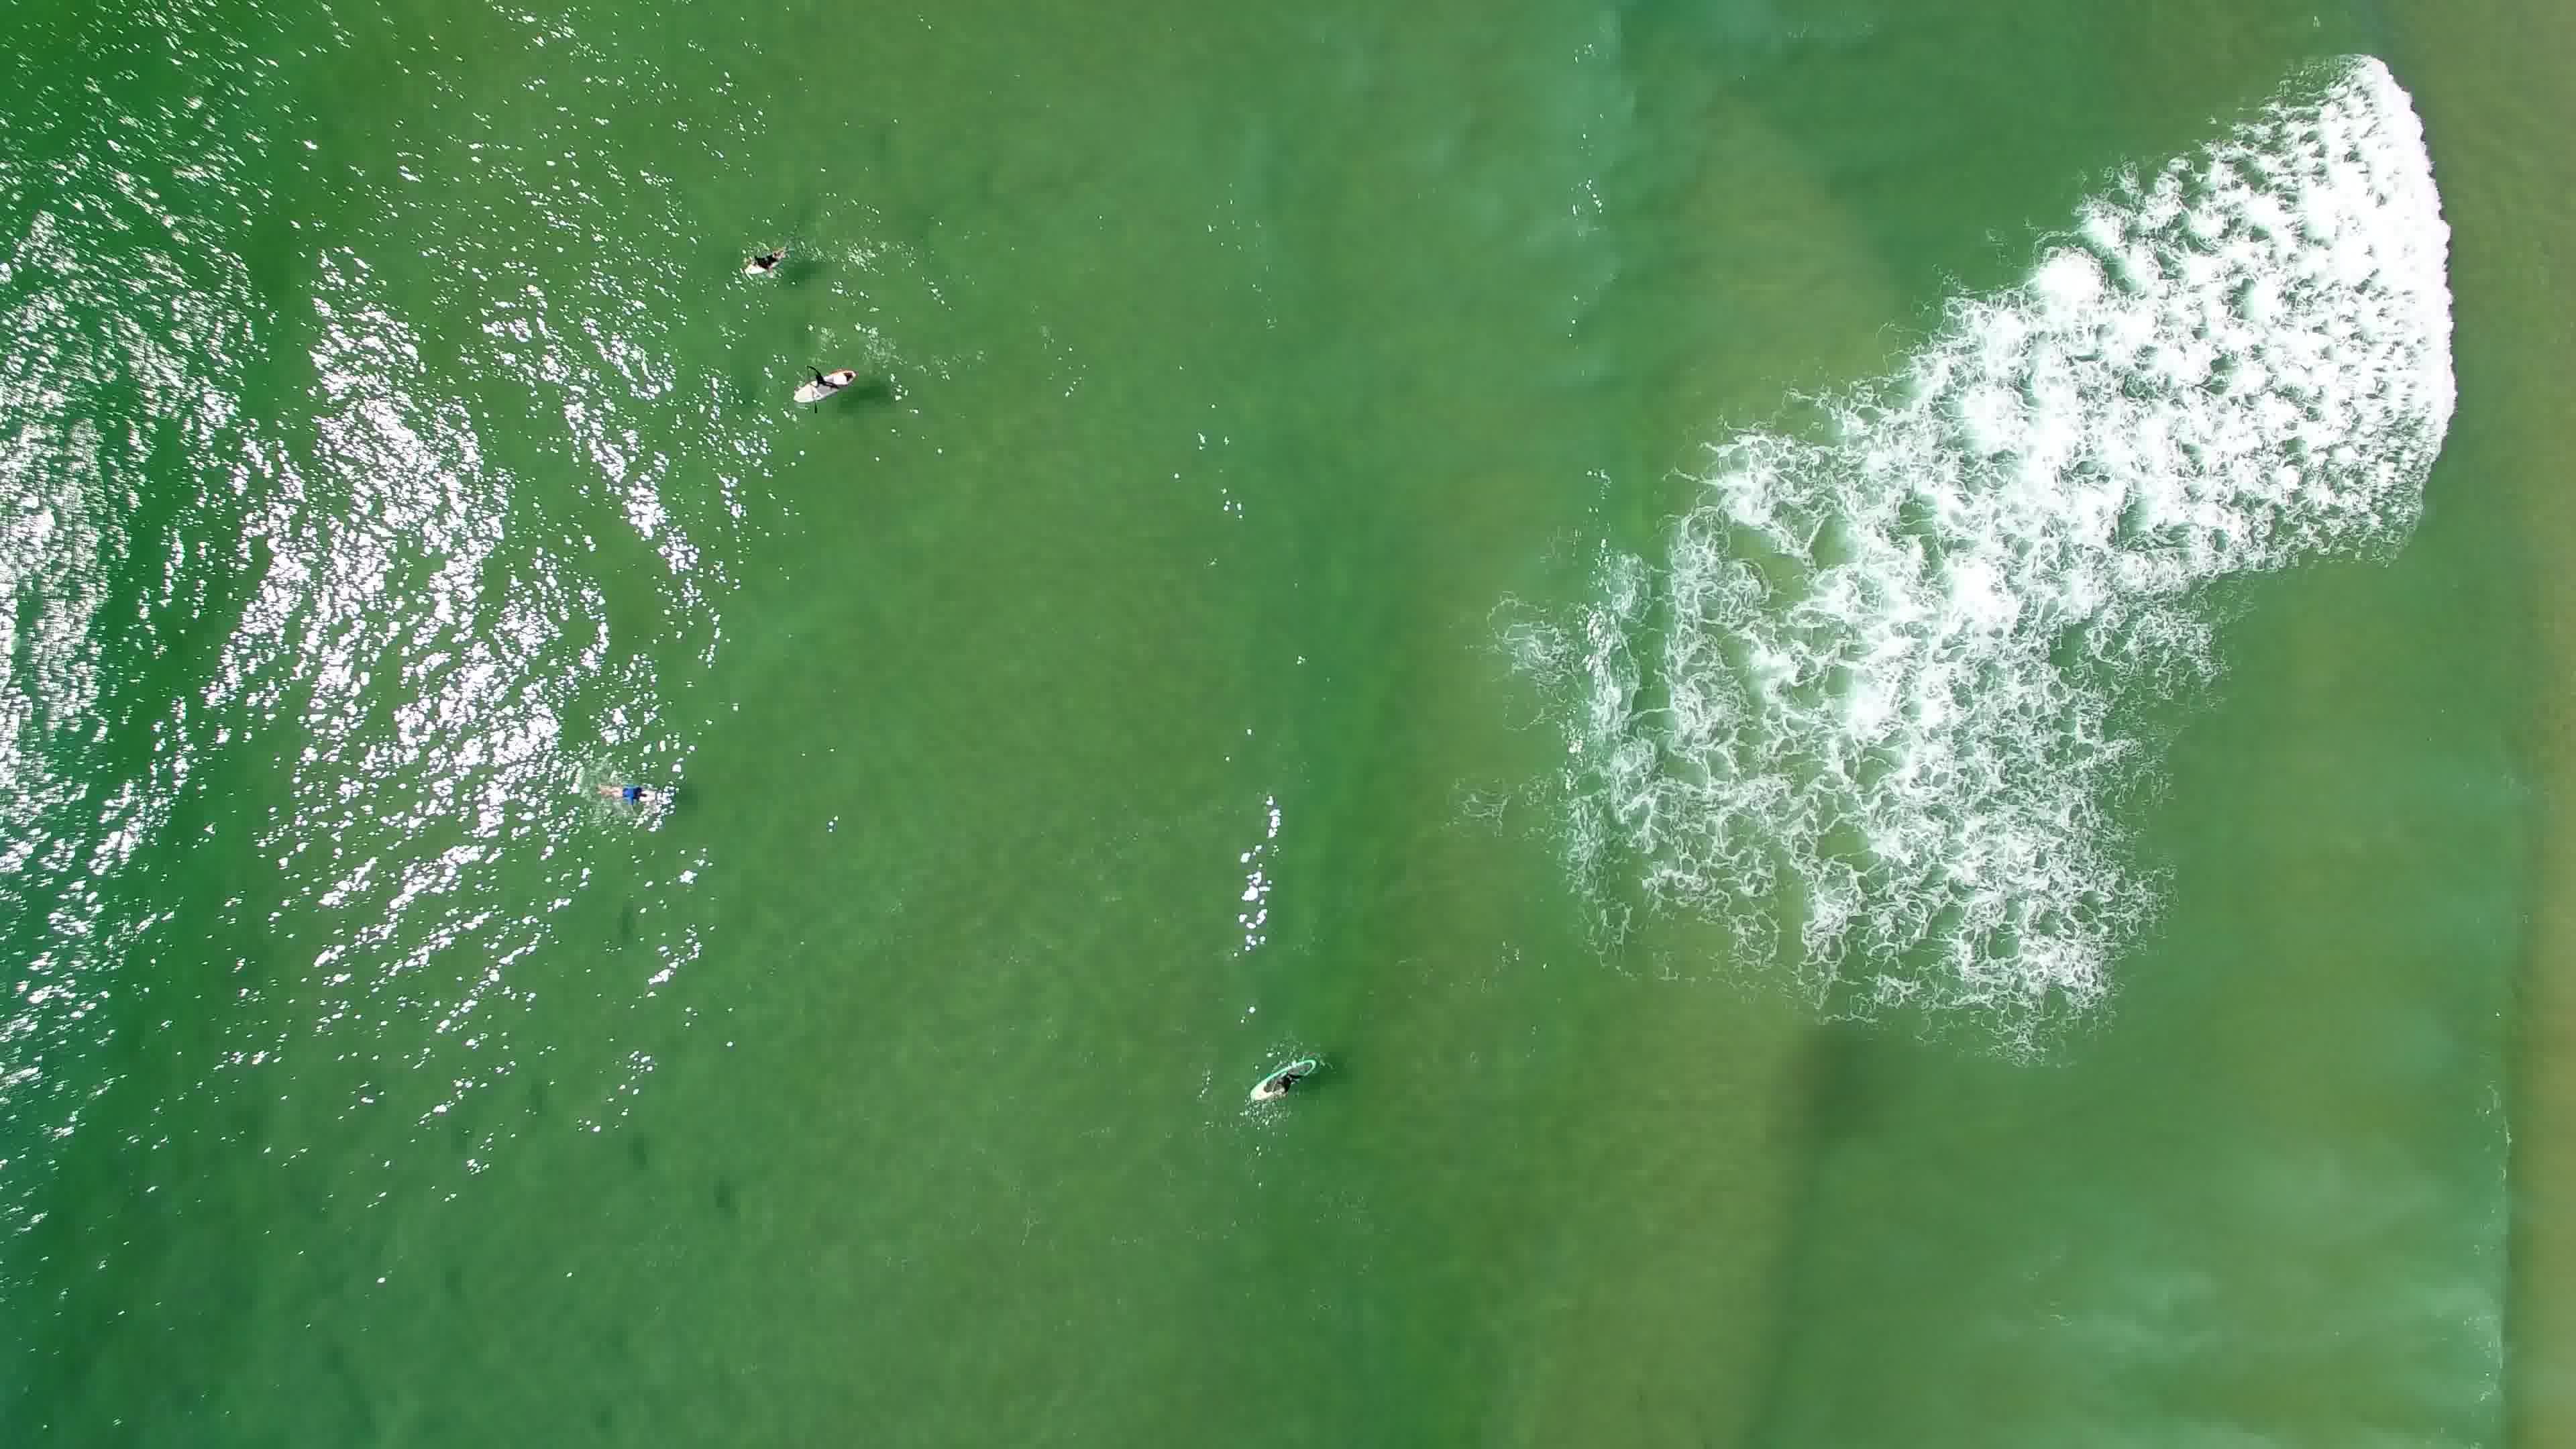surfer: (780, 352, 865, 416), (1246, 1053, 1322, 1104), (731, 234, 800, 283), (600, 773, 679, 814)
